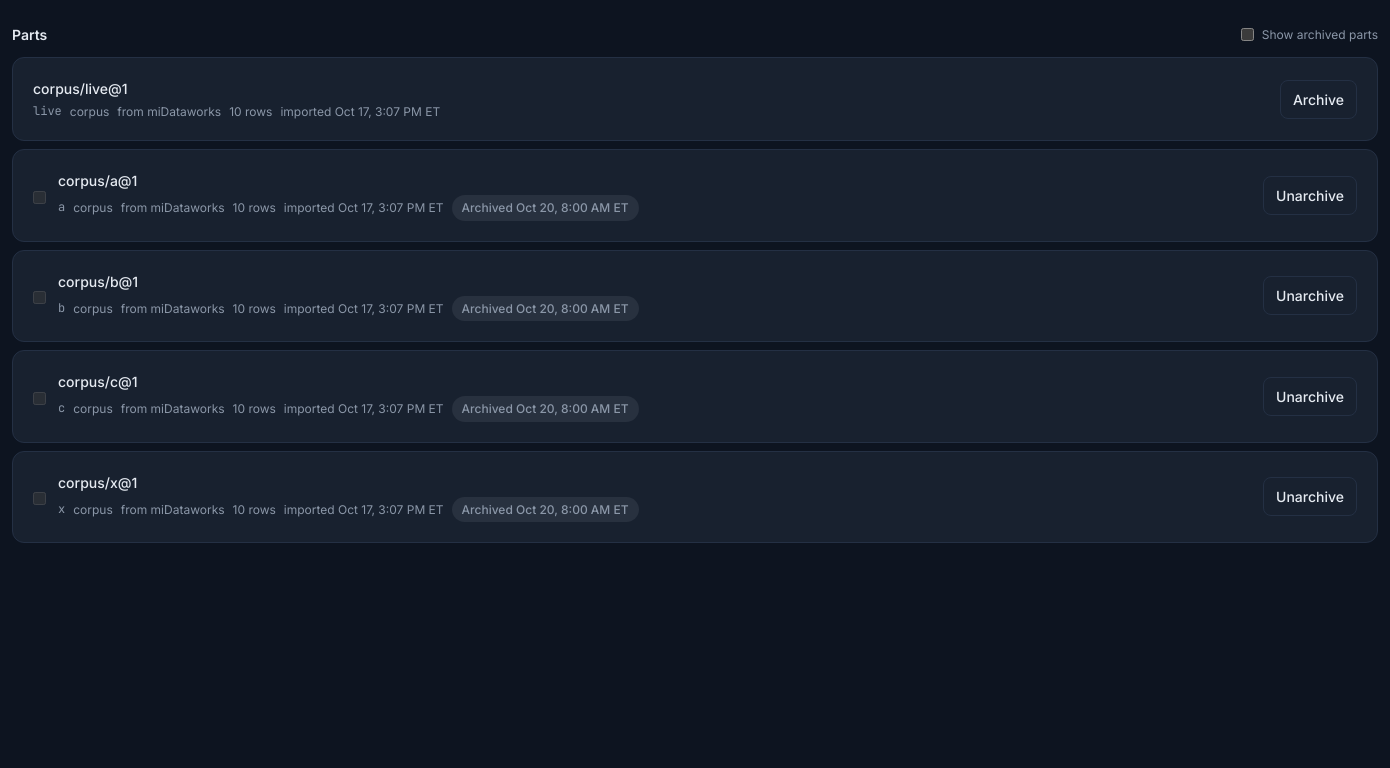
[PurgeSelection] › should show a blocked item its blocker inline and never let it be selected
Expected: the list item with test id "part-row-live" is shown, [12,57,1378,141]
Click the checkbox with test id "part-show-archived" at x=1247, y=34, box [1241,28,1254,41]
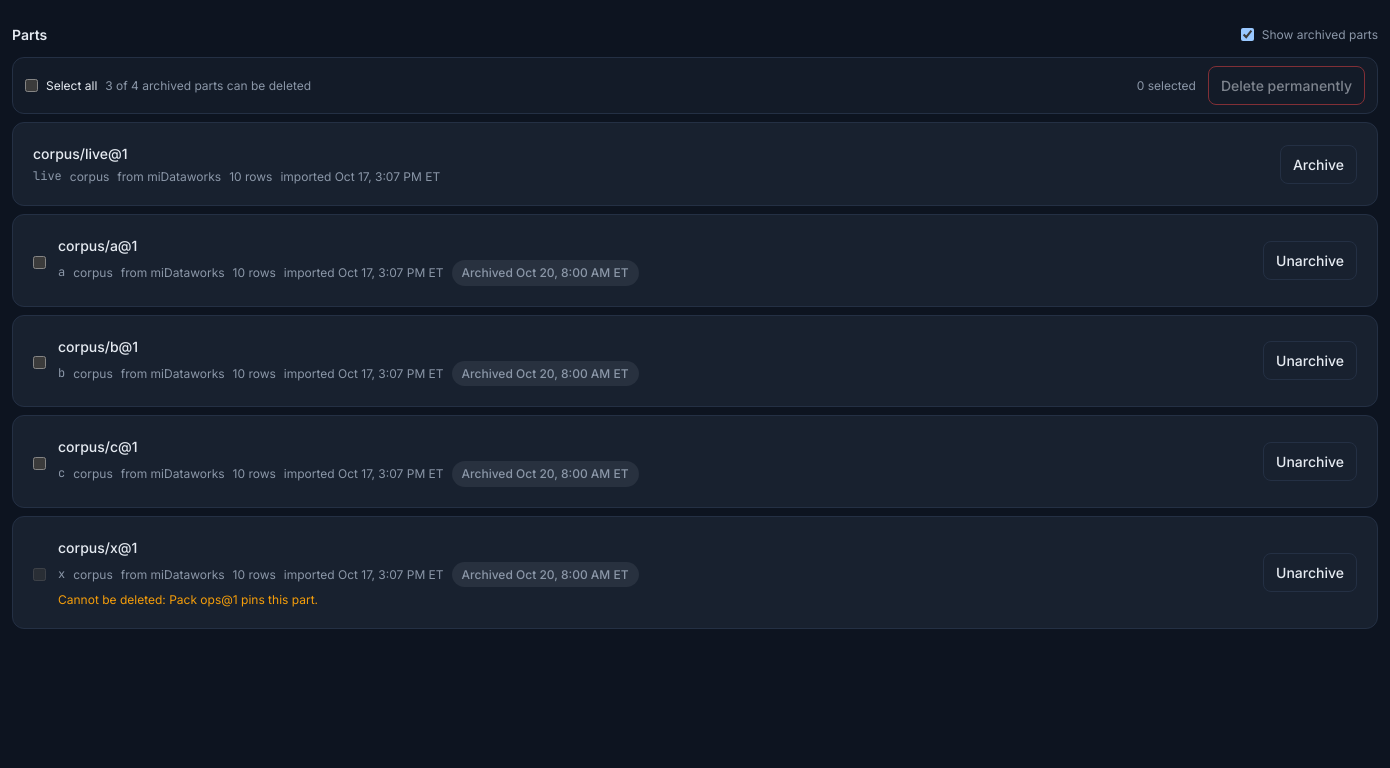
Result: the text with test id "part-purge-blocked-x" shows "Pack ops@1 pins this part." at [58,592,318,607]
Click the checkbox with test id "part-purge-select-all" at x=32, y=86, box [25,79,38,92]
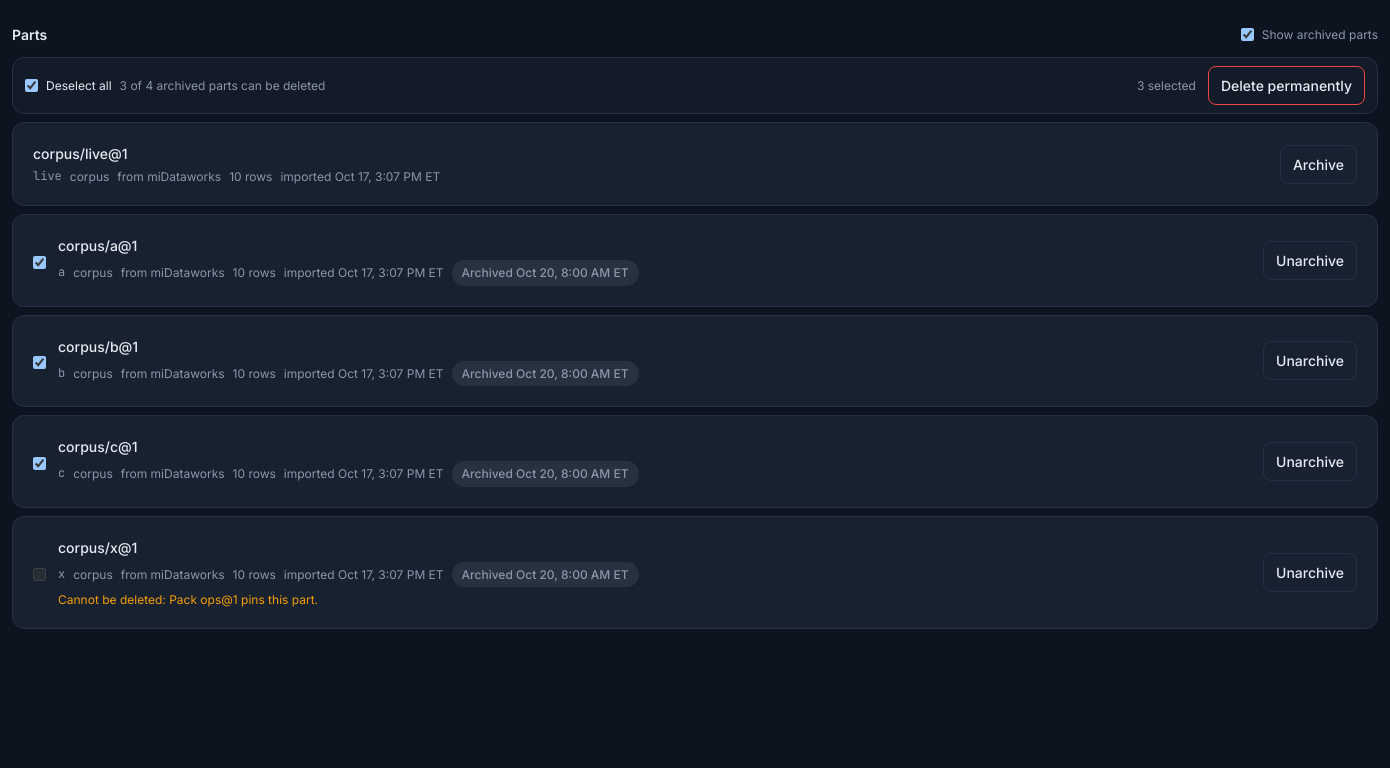
Result: the text with test id "part-purge-count" reads "3 selected" at [1137,78,1196,93]
